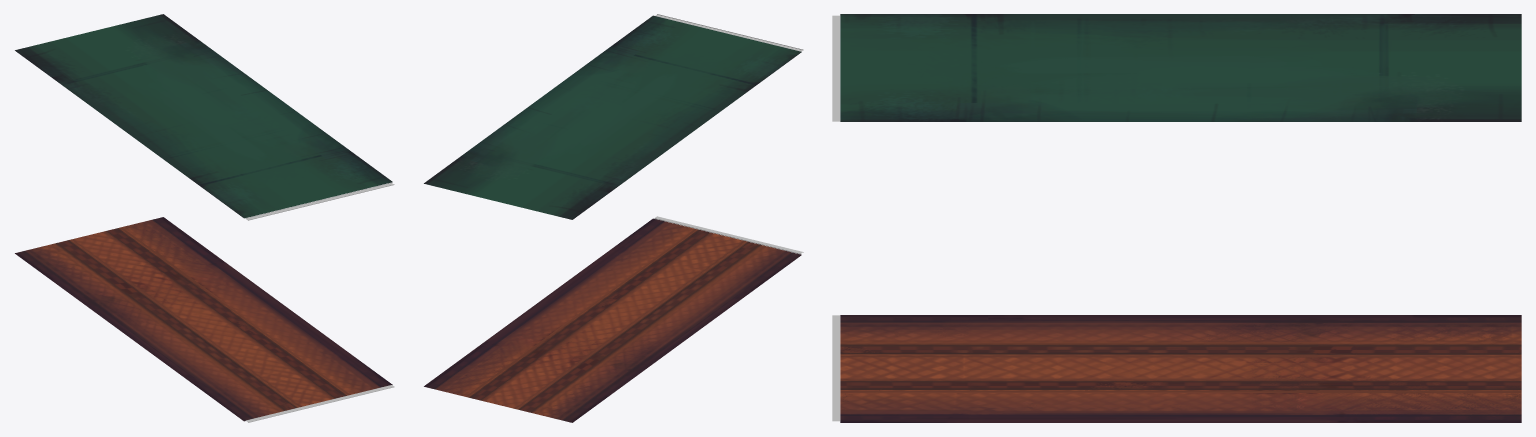
File: floor_3.obj
The picture shows the model from 3 angles, left to right: view 1: azimuth 30°, elevation 25°; view 2: azimuth 150°, elevation 25°; view 3: azimuth 270°, elevation 25°; orthographic projection. The views are drawn at different scales.
Parts seen in each view (by area): view 1: floor_3; view 2: floor_3; view 3: floor_3.
Part boxes in pixels (x1,y1,x2,y2): floor_3: (15, 14, 394, 422); floor_3: (424, 14, 803, 422); floor_3: (832, 14, 1521, 422).
Size of the model in its own units: 183 by 238 by 493.
